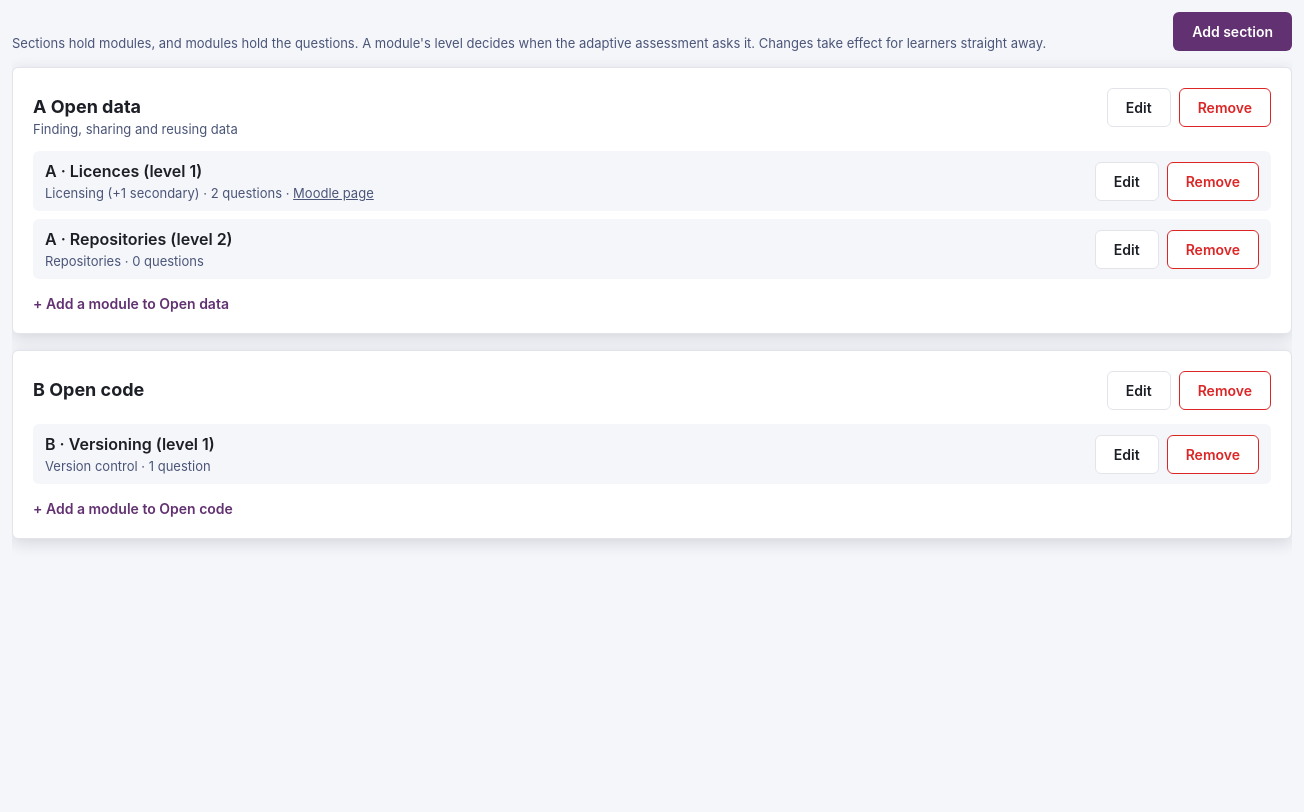
StructurePanel: sections › reports a failed remove or restore
Click the button with aria-label "Remove Open data" at point(1225, 108), box top-left (1179, 88), bottom-right (1271, 127)
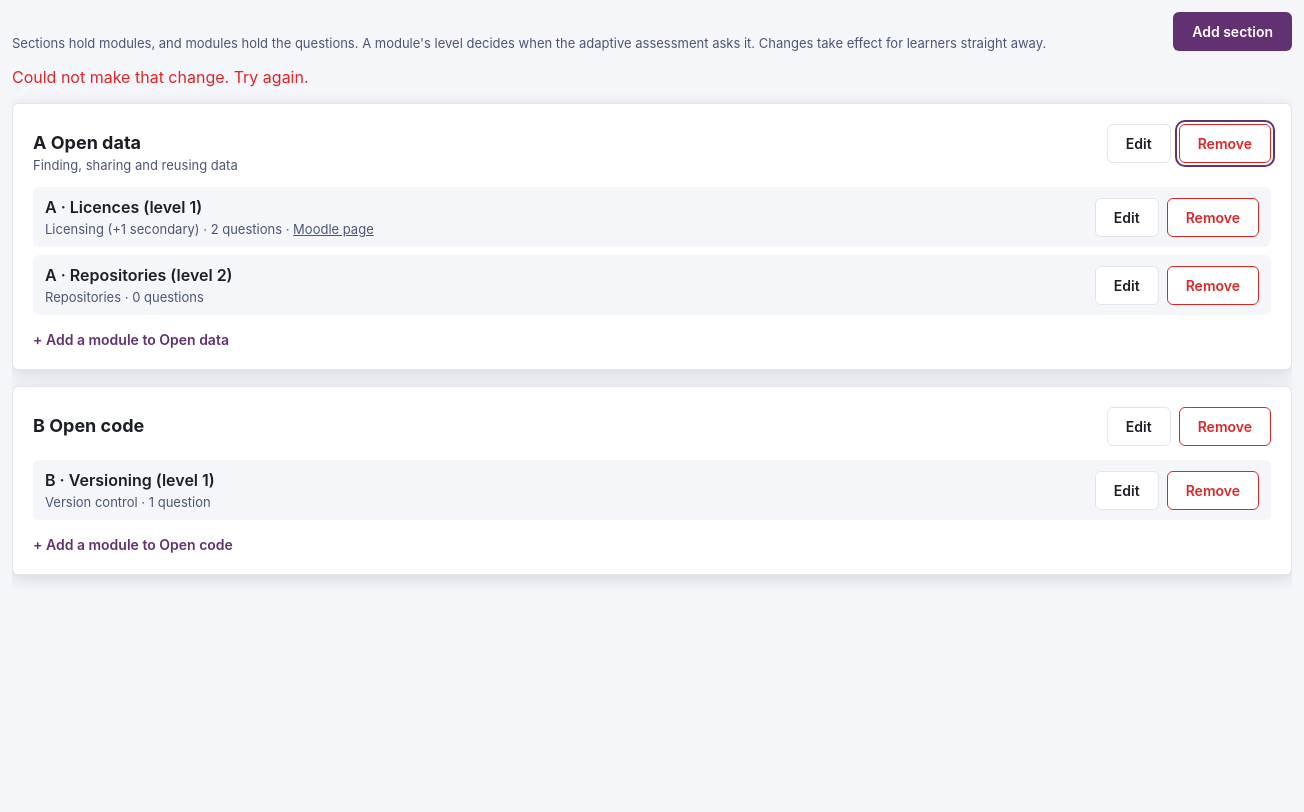
Check: the message shows "Could not make that change", box top-left (12, 67), bottom-right (309, 87)
